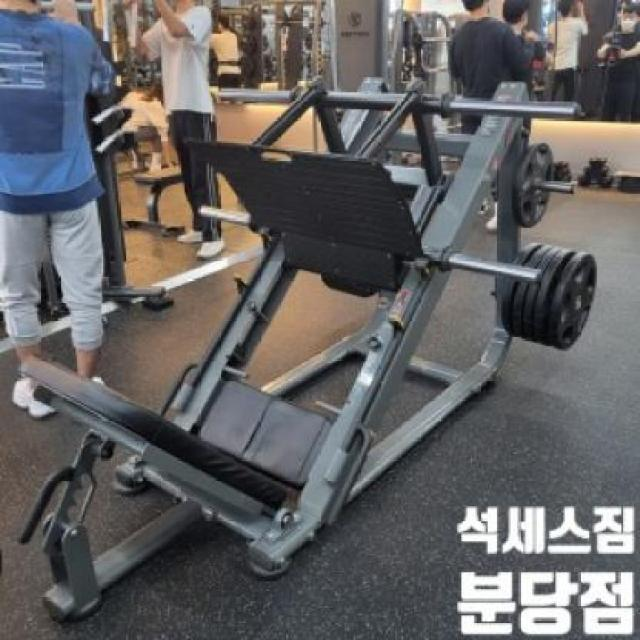leg press: (8, 66, 617, 637)
